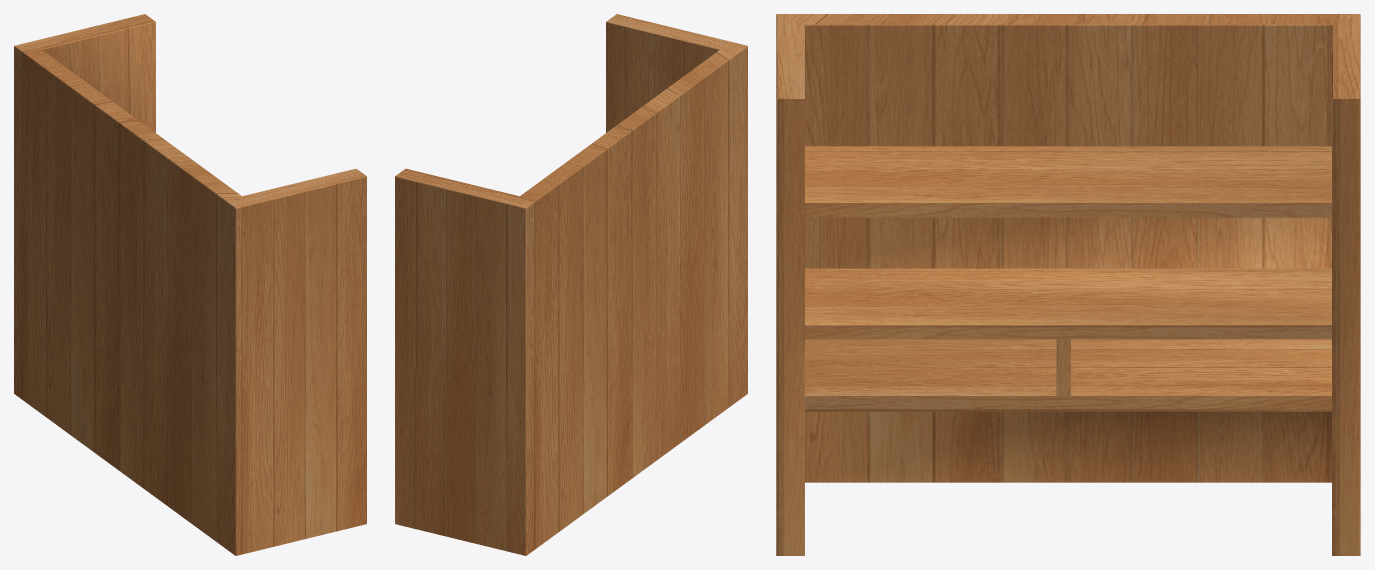
Rendered from estante.FBX.
3 renders of one model, left to right at view 1: azimuth 30°, elevation 25°; view 2: azimuth 150°, elevation 25°; view 3: azimuth 270°, elevation 25°, orthographic. The views are drawn at different scales.
Parts seen in each view (by area): view 1: estante; view 2: estante; view 3: estante.
Part boxes in pixels (x1,y1,x2,y2): estante: [14, 14, 366, 555]; estante: [395, 14, 747, 555]; estante: [776, 14, 1360, 555].
Bounding box in the file's own units: 70.72 × 179 × 207.
